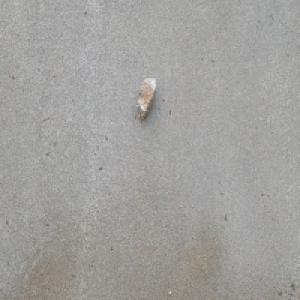Rock: (136, 76, 156, 122)
